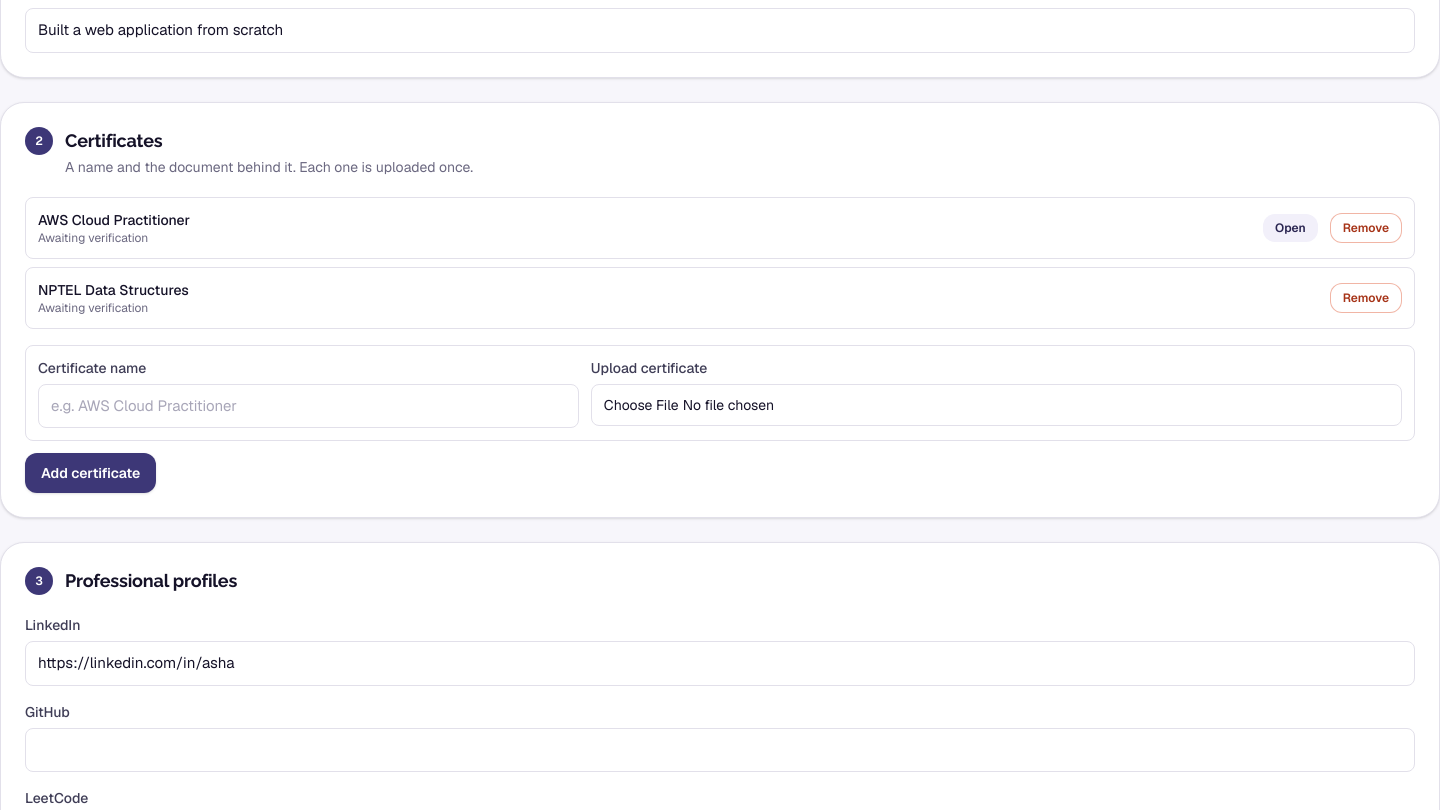
it: ProfileEditPage — certificates › refuses a name with no document behind it
The image size is (1440, 810).
(page scrolled)
Type "Azure Fundamentals" into the field labelled "Certificate name" at [308, 406], box [38,384,579,428]
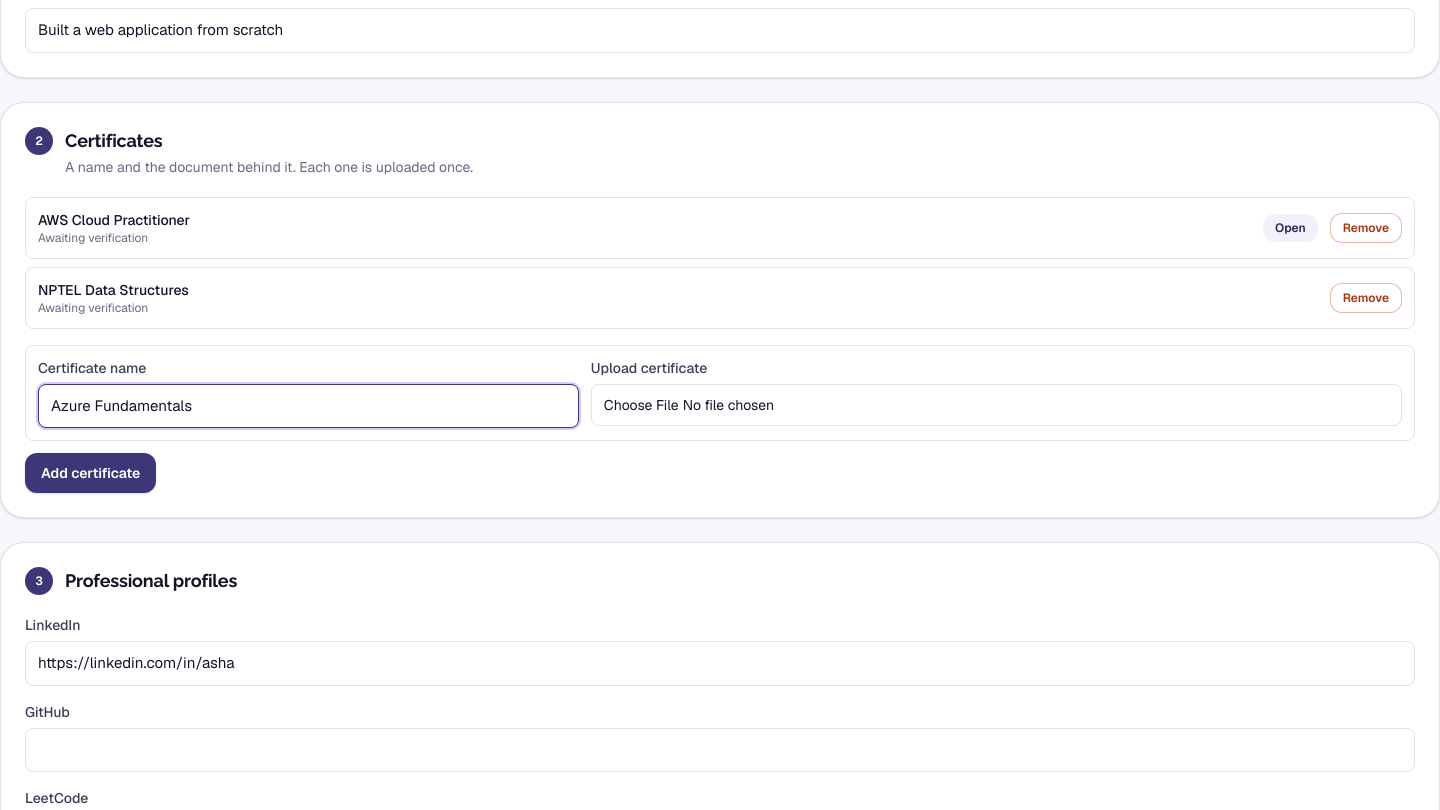
Click the button "Add certificate" at [91, 473], box [25,453,156,493]
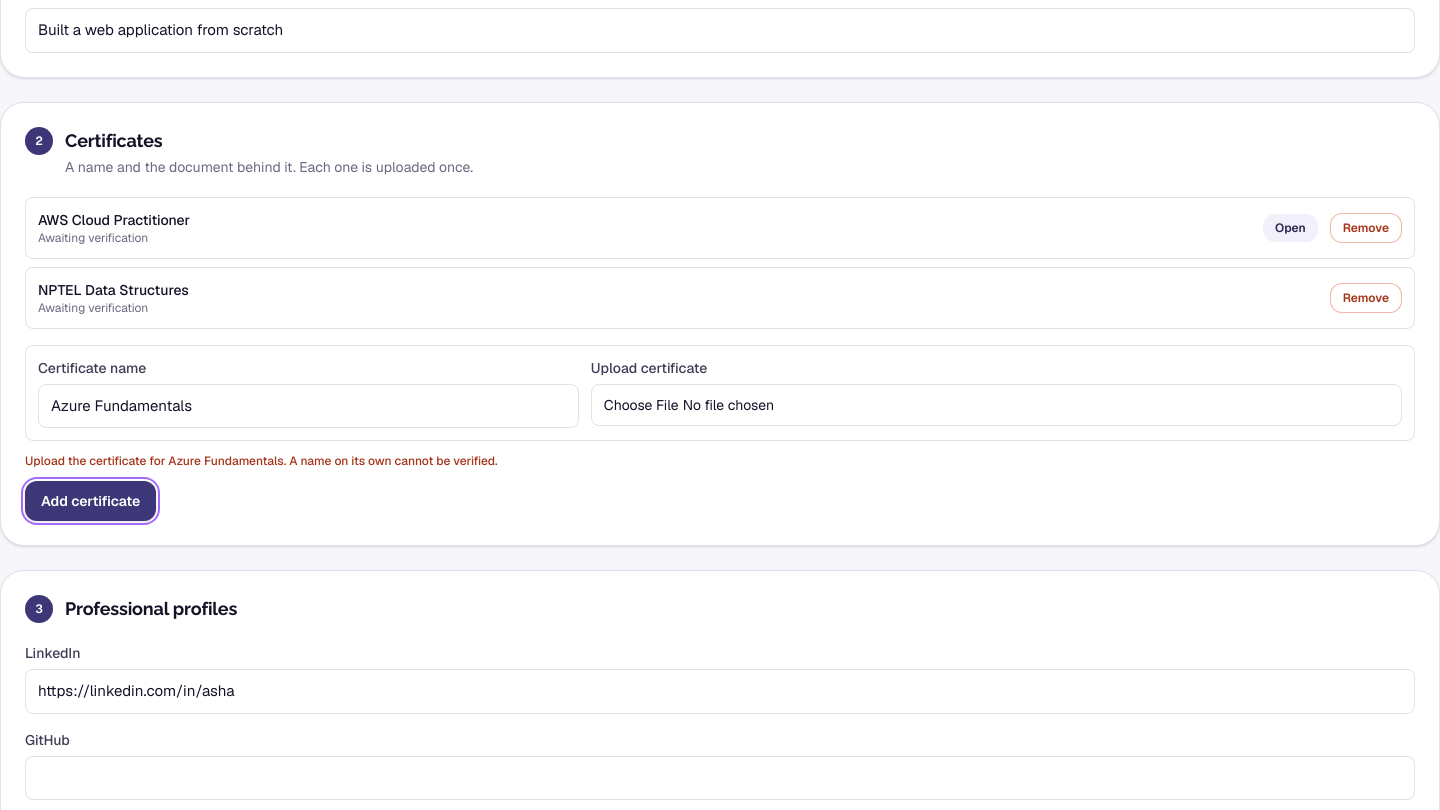
expect the 3rd list item is shown: met, box [25,453,498,469]
